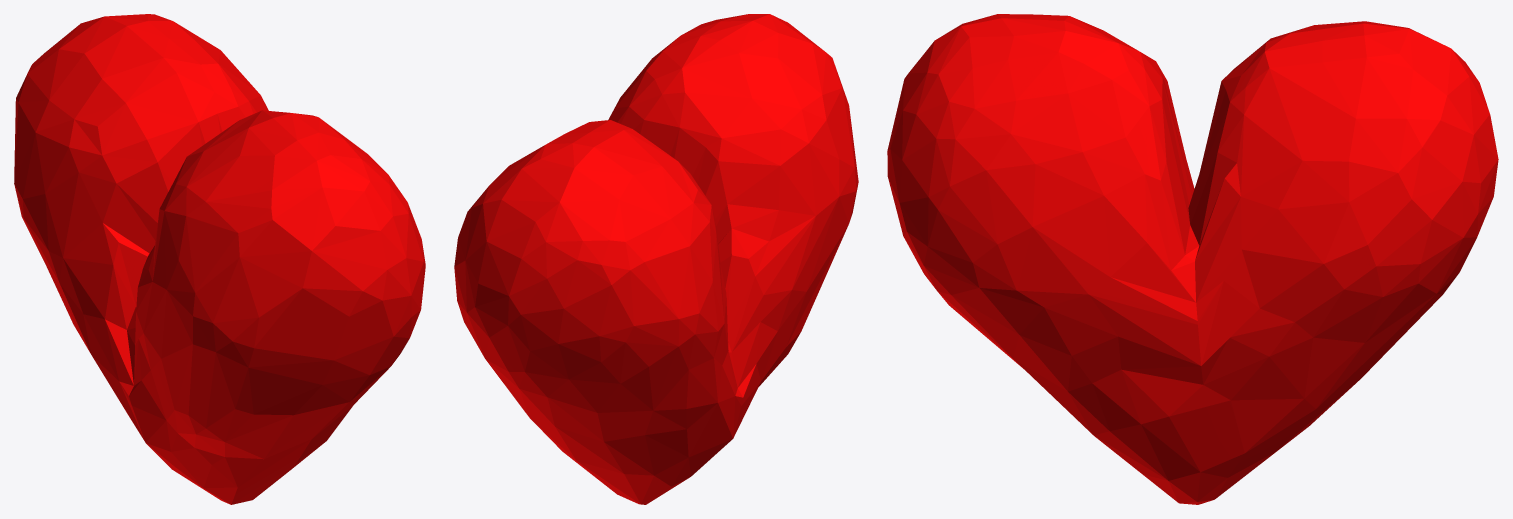
Rendered from Coeur 1.fbx.
3 views of the same model, side by side, from view 1: azimuth 30°, elevation 25°; view 2: azimuth 150°, elevation 25°; view 3: azimuth 270°, elevation 25° (orthographic). The views are drawn at different scales.
Parts seen in each view (by area): view 1: Coeur; view 2: Coeur; view 3: Coeur.
Boxes of the visible parts, <box> form: Coeur: <box>14,14,425,504</box>; Coeur: <box>454,14,858,504</box>; Coeur: <box>887,14,1498,504</box>.
Size of the model in its own units: 247 by 427 by 501.
